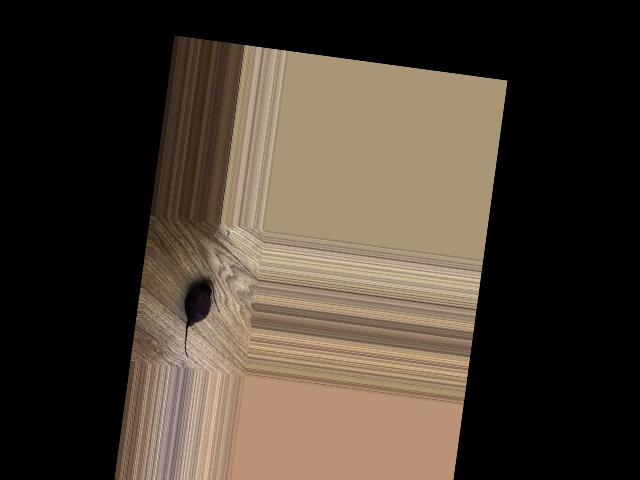beet: (176, 277, 223, 361)
